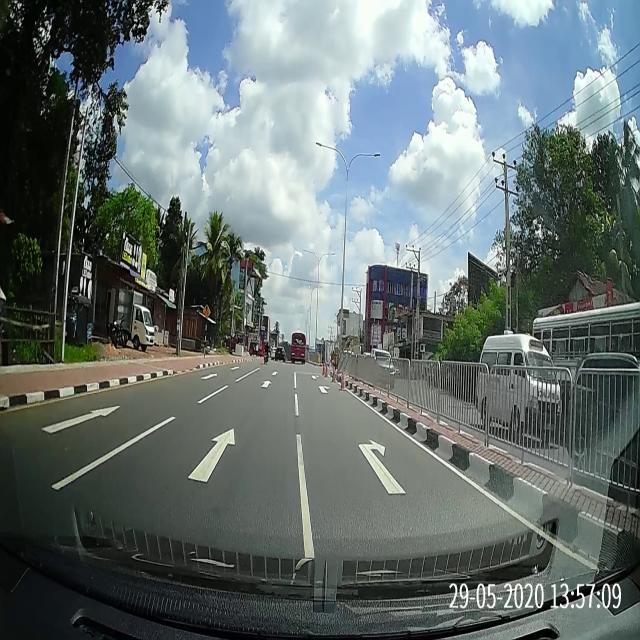forward: (97, 416, 307, 505)
right: (297, 436, 476, 502)
